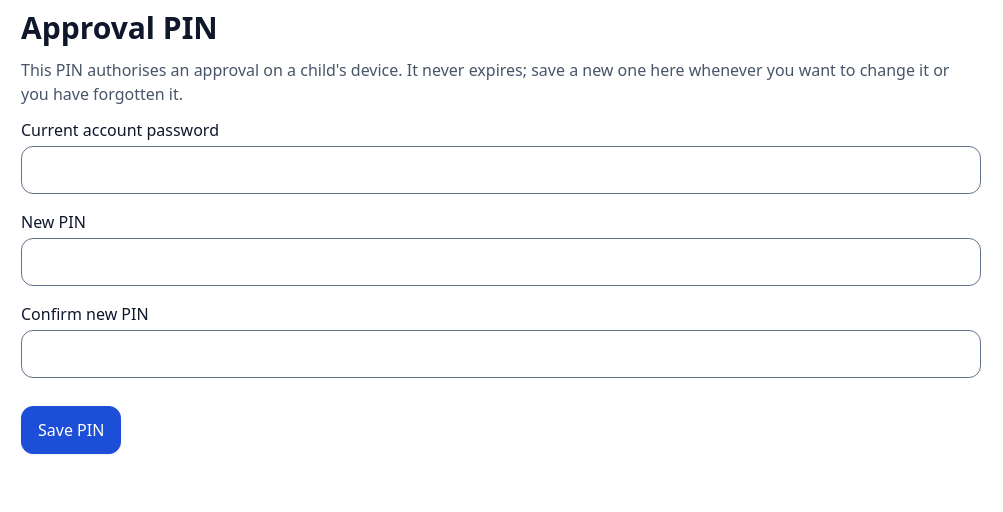
it: local validation › refuses an empty submission with no request, focused on the password field
Click the button "Save PIN" at (71, 430), box [21,406,121,454]
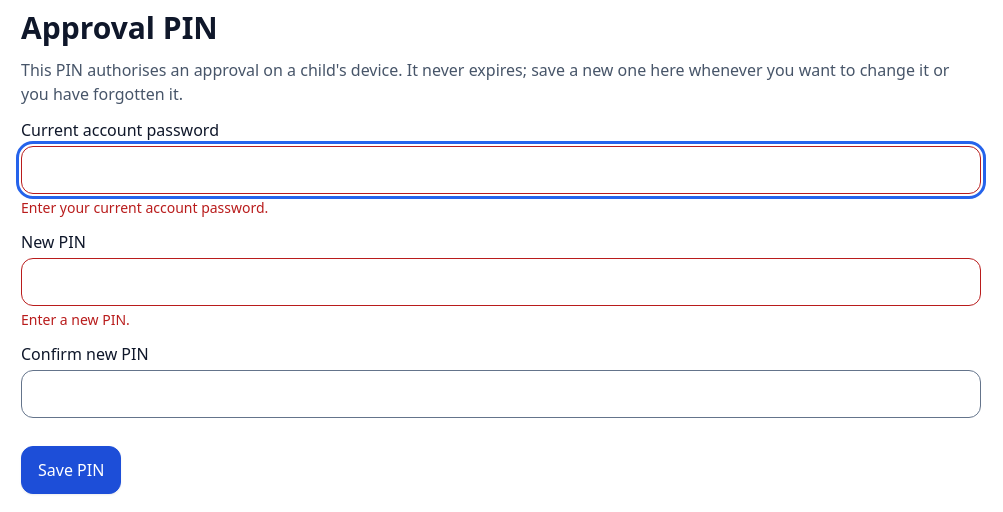
Expected: the text "Enter your current account password." is shown, [21,198,268,217]
Expected: the text "Enter a new PIN." is shown, [21,310,130,329]
